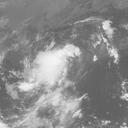cyclone: (27, 43, 80, 88)
